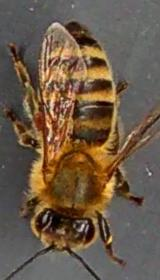varroa_mite: (29, 111, 51, 130)
